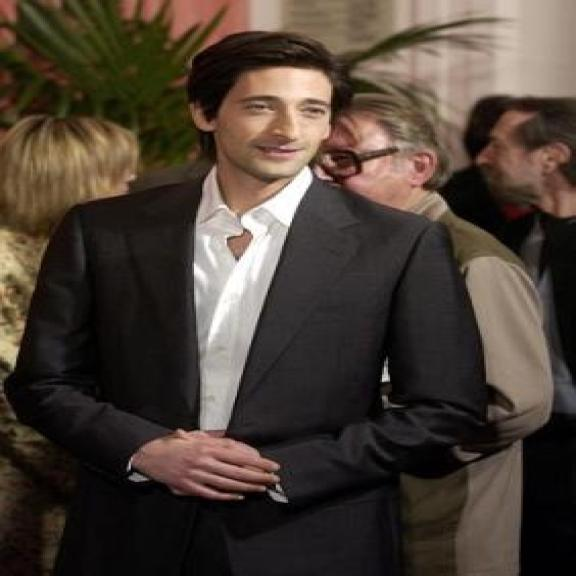face: (175, 62, 333, 182), (314, 102, 453, 210), (477, 110, 576, 200)
